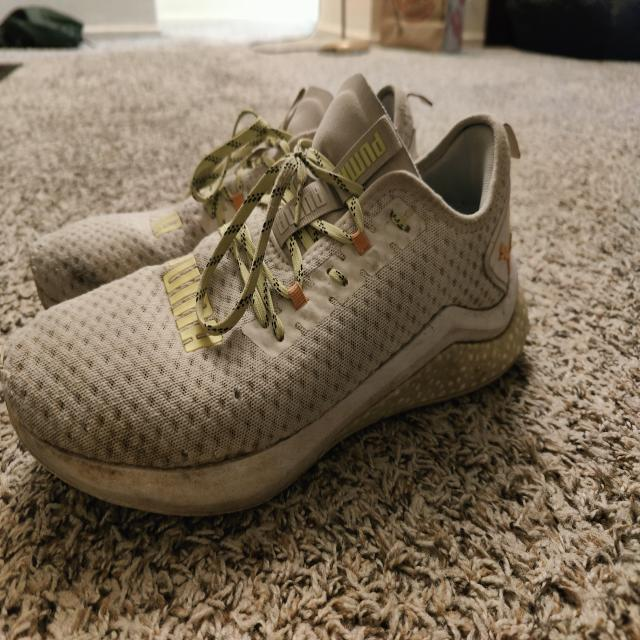white shoes: (12, 89, 525, 504)
